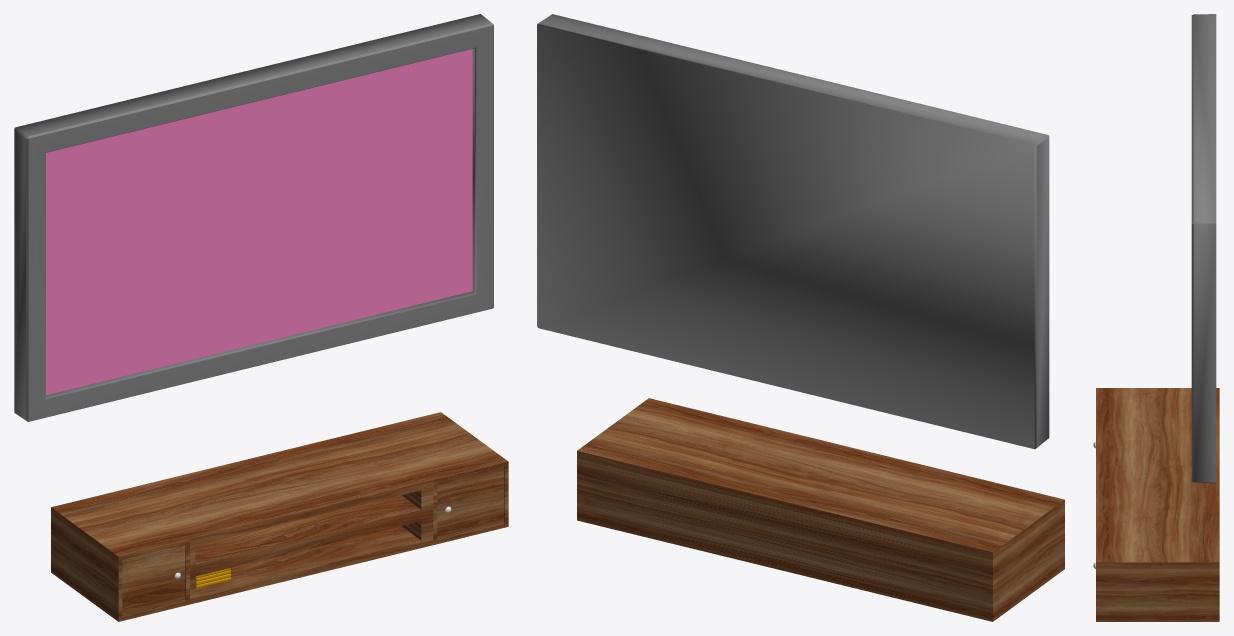
File: TVModel.FBX
3 renders of one model, left to right at view 1: azimuth 30°, elevation 25°; view 2: azimuth 150°, elevation 25°; view 3: azimuth 270°, elevation 25°, orthographic. The views are drawn at different scales.
Parts seen in each view (by area): view 1: Box001, Box002; view 2: Box001, Box002; view 3: Box002, Box001.
Part boxes in pixels (x1,y1,x2,y2): Box001: (14,14,493,421); Box002: (51,412,508,621); Box001: (537,14,1049,449); Box002: (577,398,1064,621); Box002: (1096,388,1219,621); Box001: (1191,14,1216,483).
Size of the model in its own units: 60 by 55.81 by 15.3.
